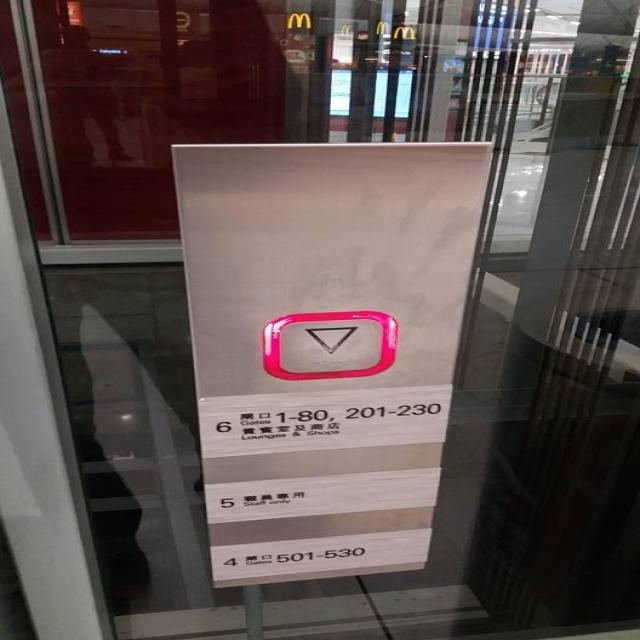down: (259, 311, 400, 380)
